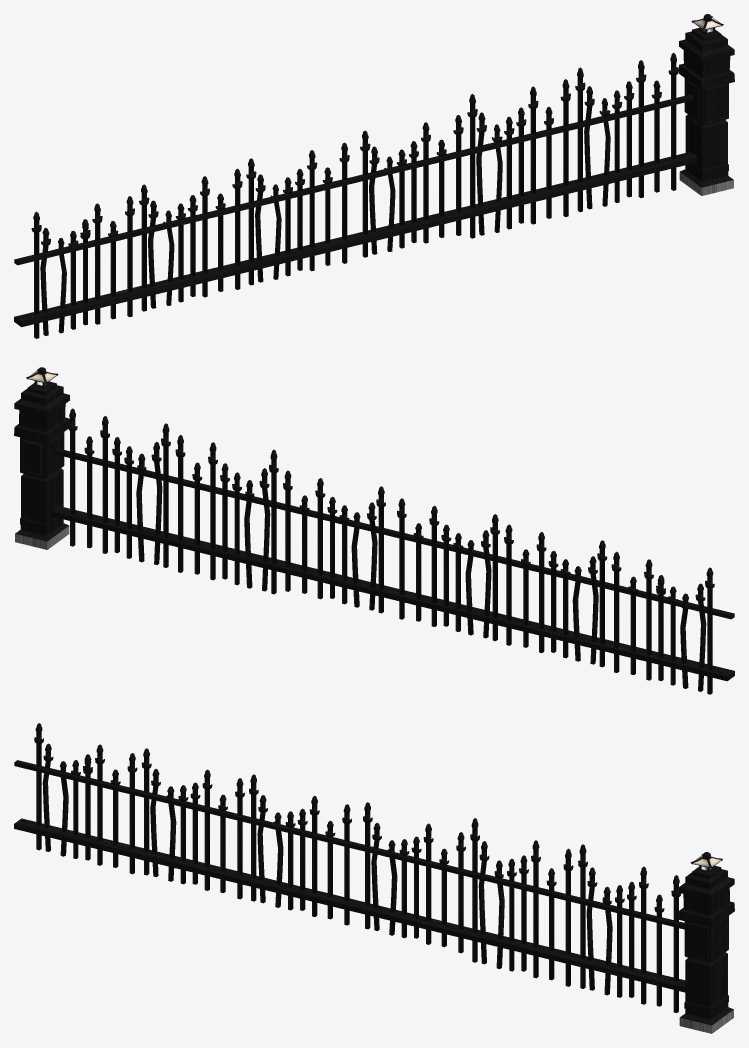
Rendered from gate1.fbx.
3 renders of one model, top to bottom at view 1: azimuth 30°, elevation 25°; view 2: azimuth 150°, elevation 25°; view 3: azimuth 330°, elevation 25°, orthographic.
Parts seen in each view (by area): view 1: Plane.056; view 2: Plane.056; view 3: Plane.056.
Boxes of the visible parts, box(x1,y1,x2,y2) form: Plane.056: box(14, 14, 734, 338); Plane.056: box(14, 367, 734, 694); Plane.056: box(14, 723, 734, 1033).
Size of the model in its own units: 558 by 128 by 31.24.
